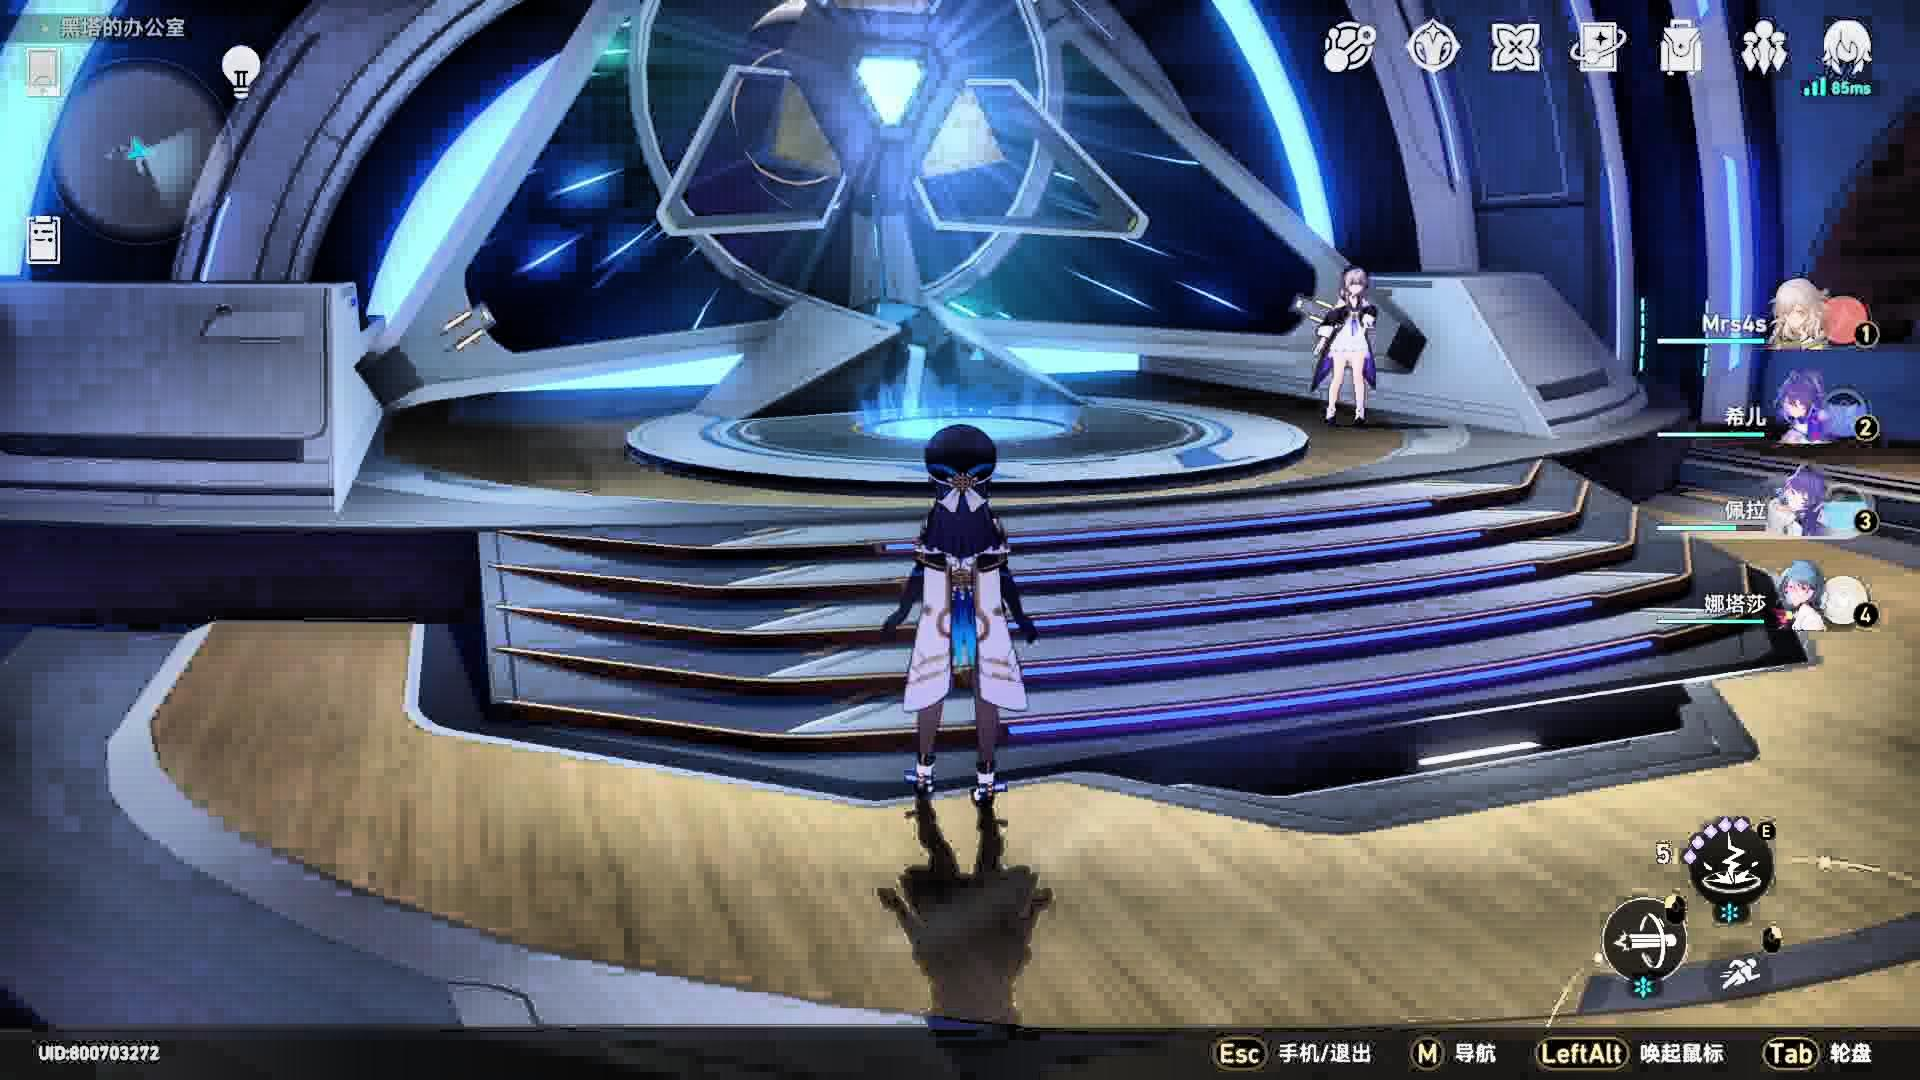Self: (877, 421, 1039, 829)
TeamMate: (1313, 258, 1379, 430)
